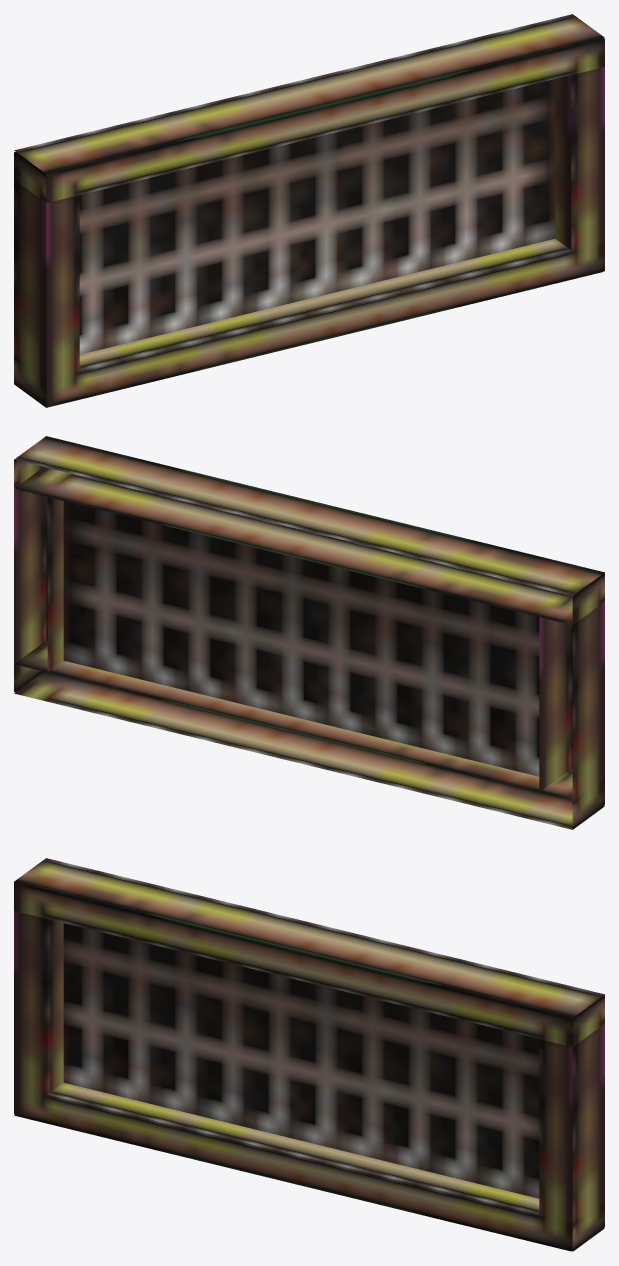
File: Poly_SF_Outside_B_Air_Vent_01.obj
3 views of the same model, one above another, from view 1: azimuth 30°, elevation 25°; view 2: azimuth 150°, elevation 25°; view 3: azimuth 330°, elevation 25° (orthographic).
Visible parts, largest first — view 1: Cube.001, Cube.002; view 2: Cube.001, Cube.002; view 3: Cube.001, Cube.002.
Boxes of the visible parts, x1,y1,x2,y2 form: Cube.001: (14, 14, 604, 407); Cube.002: (14, 67, 604, 378); Cube.001: (14, 436, 604, 829); Cube.002: (14, 487, 604, 800); Cube.001: (14, 858, 604, 1251); Cube.002: (14, 911, 604, 1222).
Size of the model in its own units: 1 by 0.4 by 0.1.
1 material, 1 textured.
